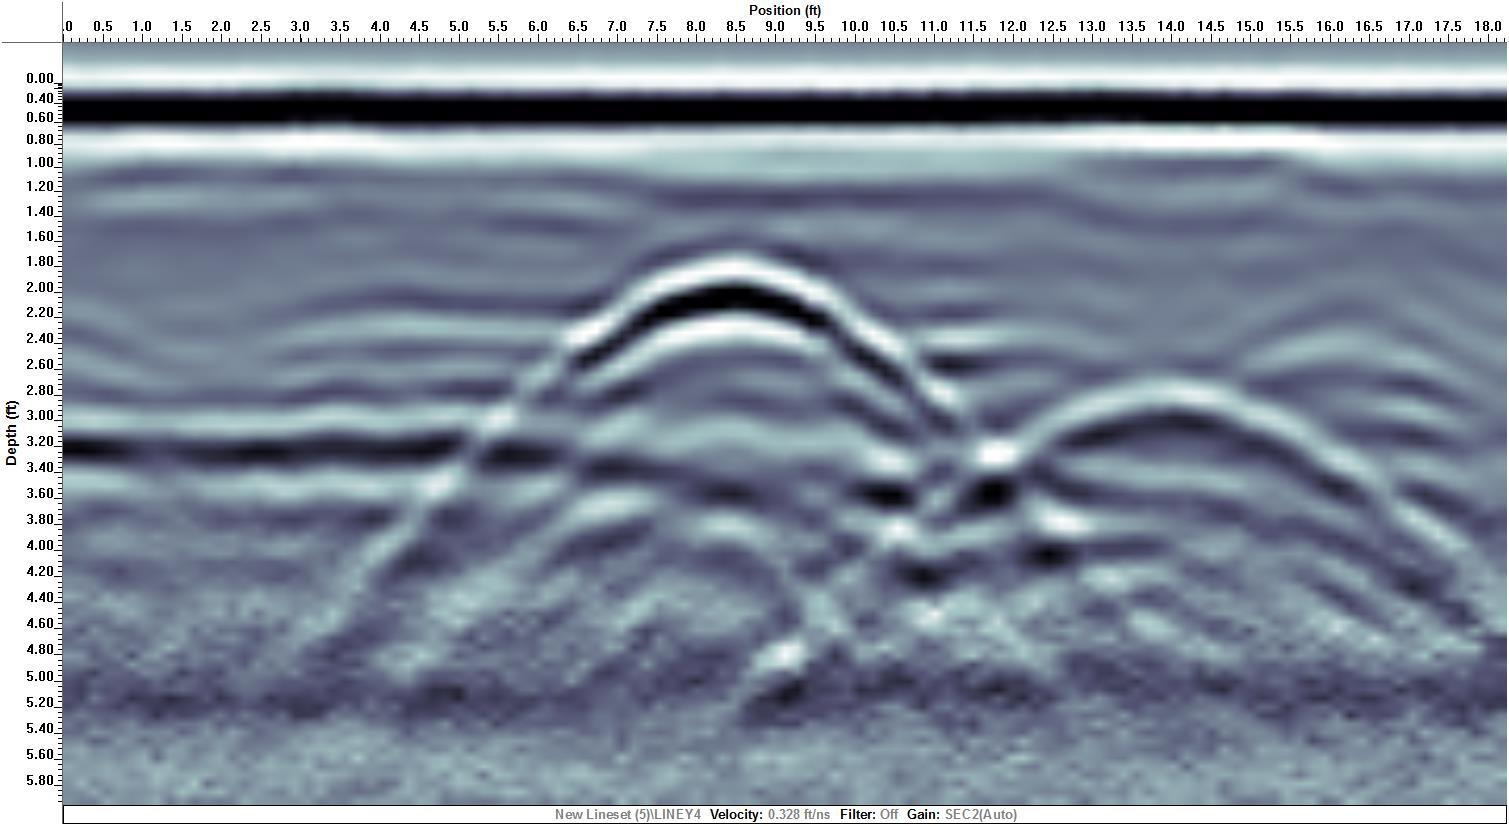hyperbola: (522, 233, 983, 419), (985, 355, 1439, 529)
